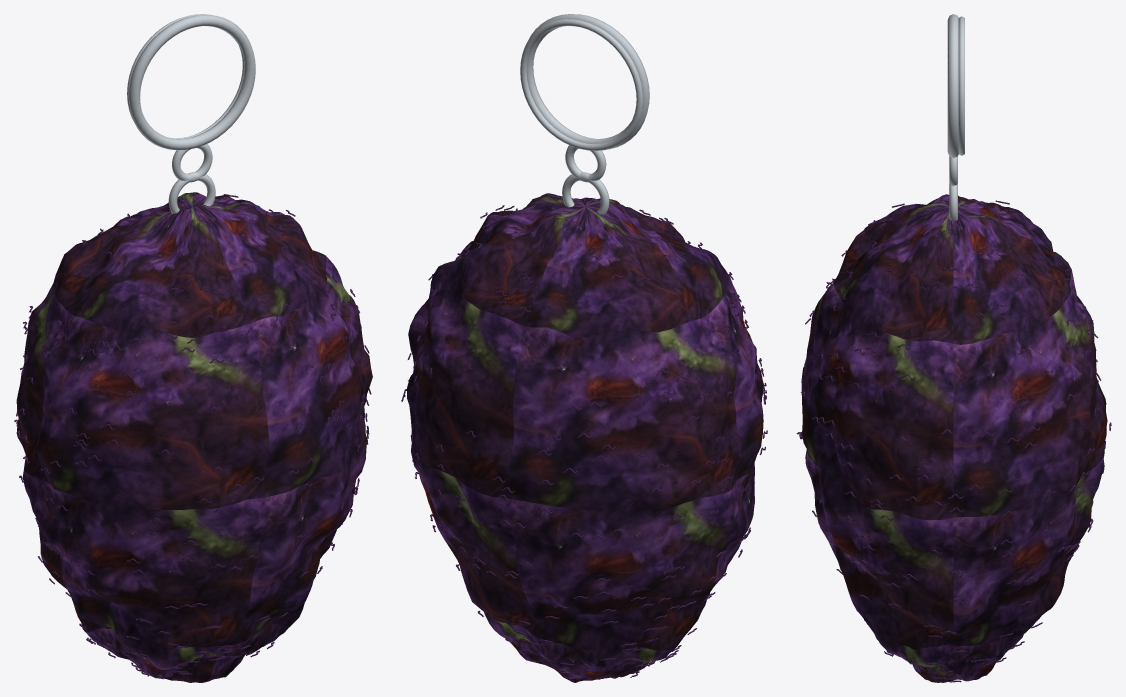
Rendered from brilok-purple.glb.
3 views of the same model, side by side, from view 1: azimuth 30°, elevation 25°; view 2: azimuth 150°, elevation 25°; view 3: azimuth 270°, elevation 25° (orthographic).
Parts seen in each view (by area): view 1: brilok-purple; view 2: brilok-purple; view 3: brilok-purple.
Boxes of the visible parts, left/top/right/bottom form: brilok-purple: left=14, top=14, right=372, bottom=682; brilok-purple: left=401, top=14, right=767, bottom=682; brilok-purple: left=796, top=14, right=1111, bottom=682.
Bounding box in the file's own units: 1.52 × 2.93 × 1.28.
Materials: 3 (2 with a texture image).
